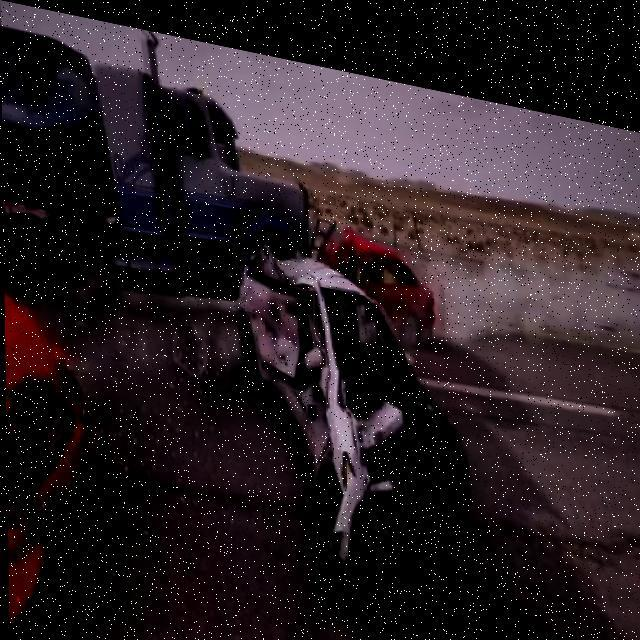Car Accident Detector - v4 Generation1 Exported: (218, 157, 474, 536)
